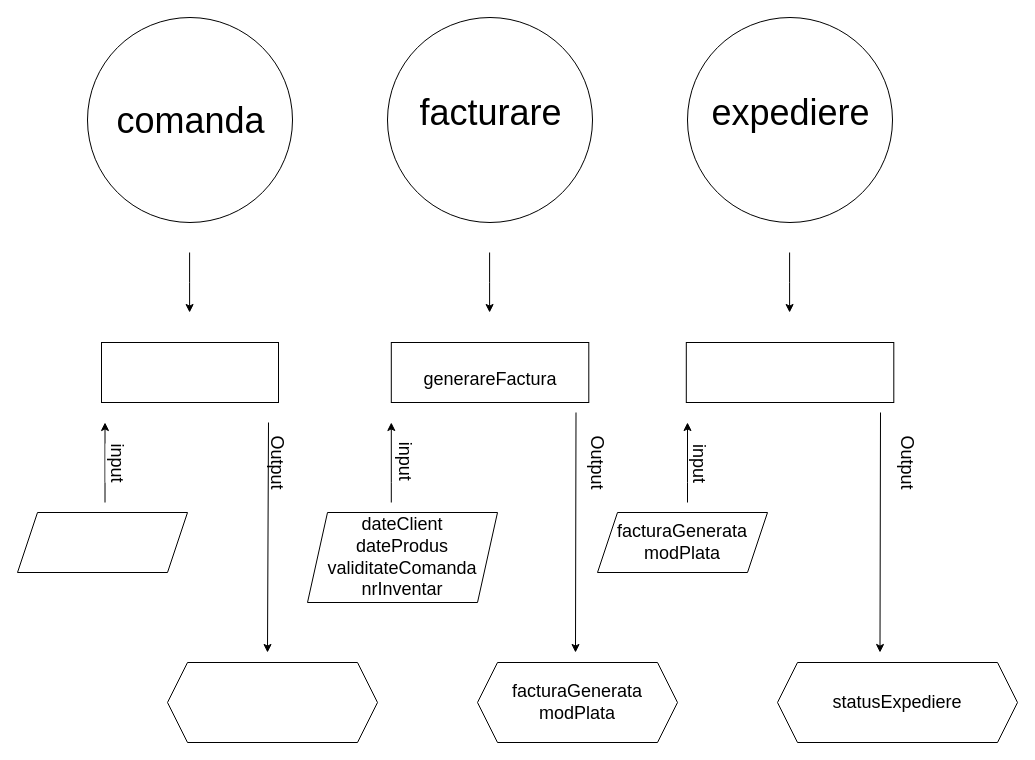
Image size: 1035x760. Some labels were removed from this diagram. Here are the shapes that lost their labels. From the top down, the centre of each, then its label:
the point at 189,372: valideazaComanda
the point at 789,372: confirmareExpediere
the point at 102,542: dateClient dateProdus
the point at 272,702: bool validitateComanda nrInventar
